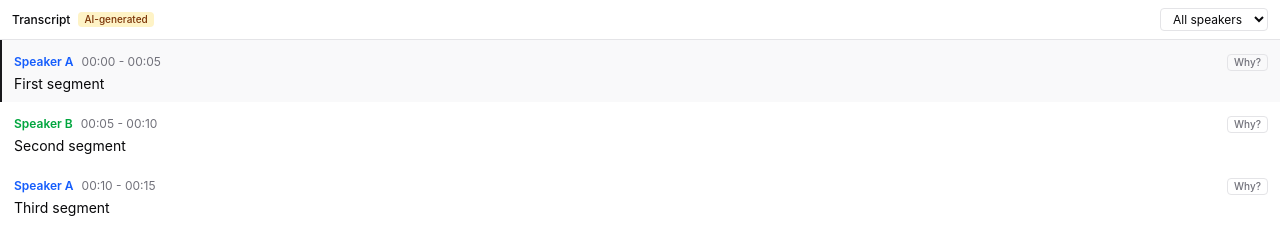
Scenario: TranscriptPanel › filters by speaker
Select "Speaker B" in the dropdown with test id "speaker-filter": (1214, 20) [1160, 8, 1268, 31]
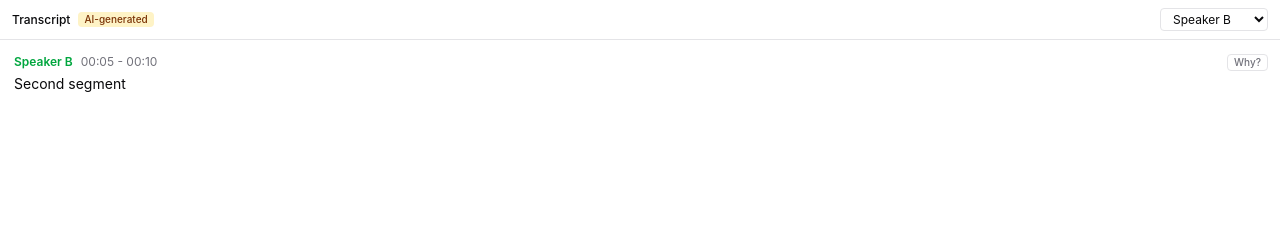
Expected: the text "Second segment" is shown, [14, 75, 126, 92]
Expected: the button "First segment" is gone
Expected: the button "Third segment" is gone
